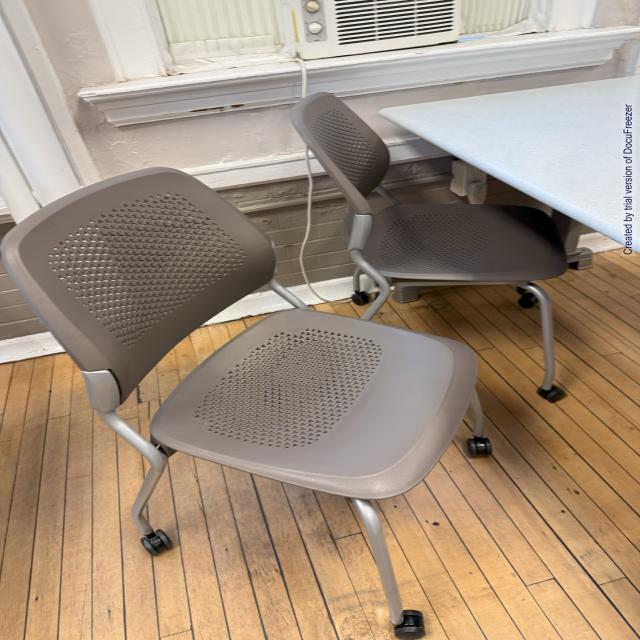chair: (0, 153, 500, 640), (264, 76, 626, 412)
